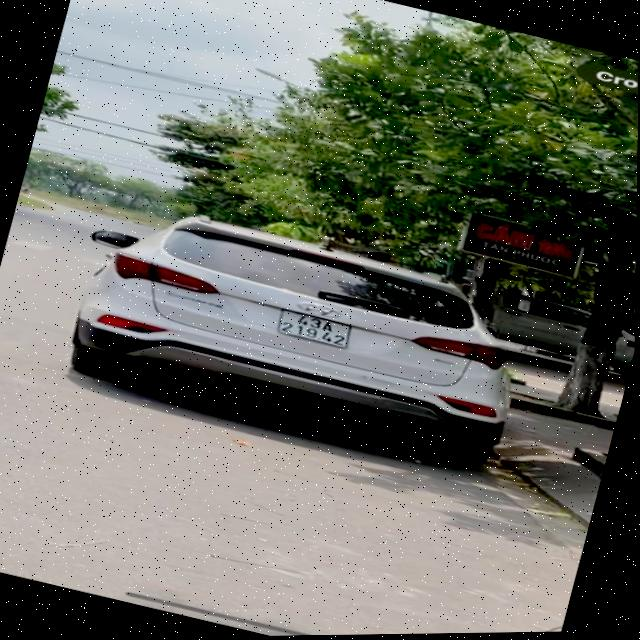car: (30, 164, 562, 503), (267, 298, 357, 353)
plate: (266, 299, 359, 357)
